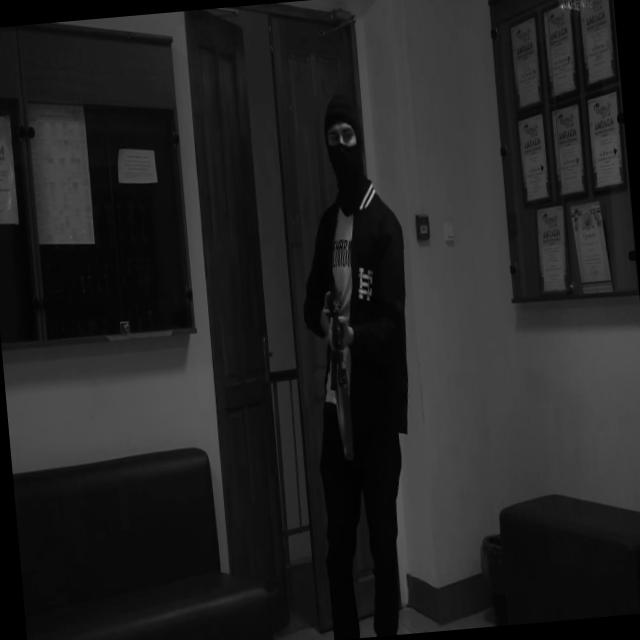gun: (318, 253, 349, 392)
person with a gun: (284, 89, 438, 640)
